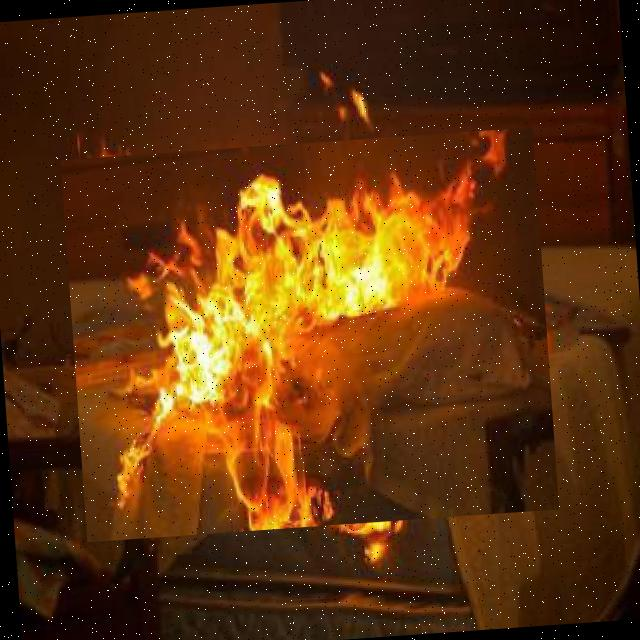fire: (60, 127, 559, 542)
